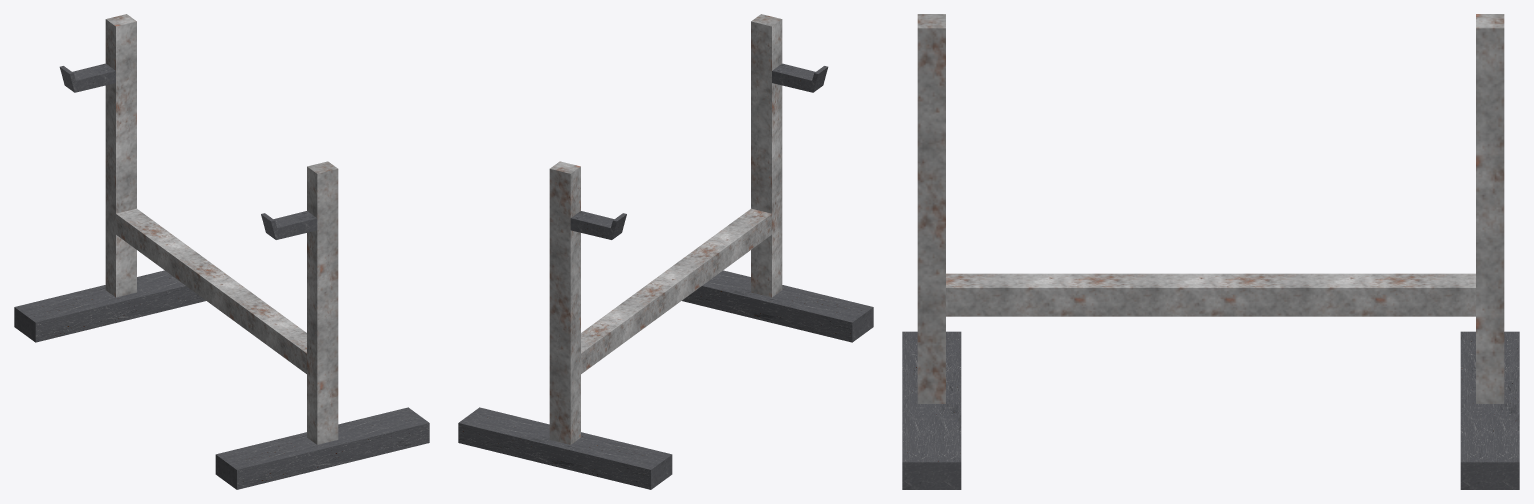
The model's file is bar_holder.fbx.
The picture shows the model from 3 angles, left to right: view 1: azimuth 30°, elevation 25°; view 2: azimuth 150°, elevation 25°; view 3: azimuth 270°, elevation 25°; orthographic projection. The views are drawn at different scales.
Parts seen in each view (by area): view 1: bar_holder; view 2: bar_holder; view 3: bar_holder.
Part boxes in pixels (x1=…): bar_holder: x1=14, y1=14, x2=429, y2=489; bar_holder: x1=458, y1=14, x2=873, y2=489; bar_holder: x1=902, y1=14, x2=1519, y2=489.
Size of the model in its own units: 100 by 144 by 200.
Materials: 1 (1 with a texture image).
